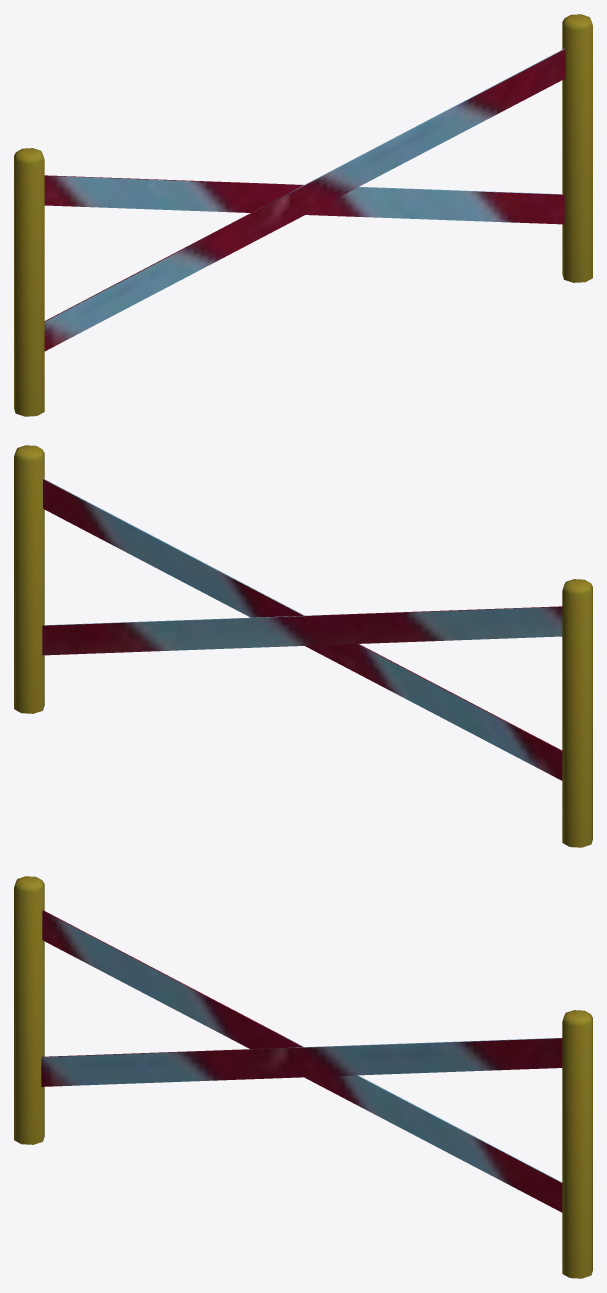
File: rubalise.glb
3 views of the same model, one above another, from view 1: azimuth 30°, elevation 25°; view 2: azimuth 150°, elevation 25°; view 3: azimuth 330°, elevation 25° (orthographic).
Visible parts, largest first — view 1: Warning_Tape; view 2: Warning_Tape; view 3: Warning_Tape.
Boxes of the visible parts, x1,y1,x2,y2 form: Warning_Tape: (14,14,592,416); Warning_Tape: (14,445,592,847); Warning_Tape: (14,876,592,1278).
Bounding box in the file's own units: 1.05 × 0.45 × 0.05.
Materials: 2 (2 with a texture image).
